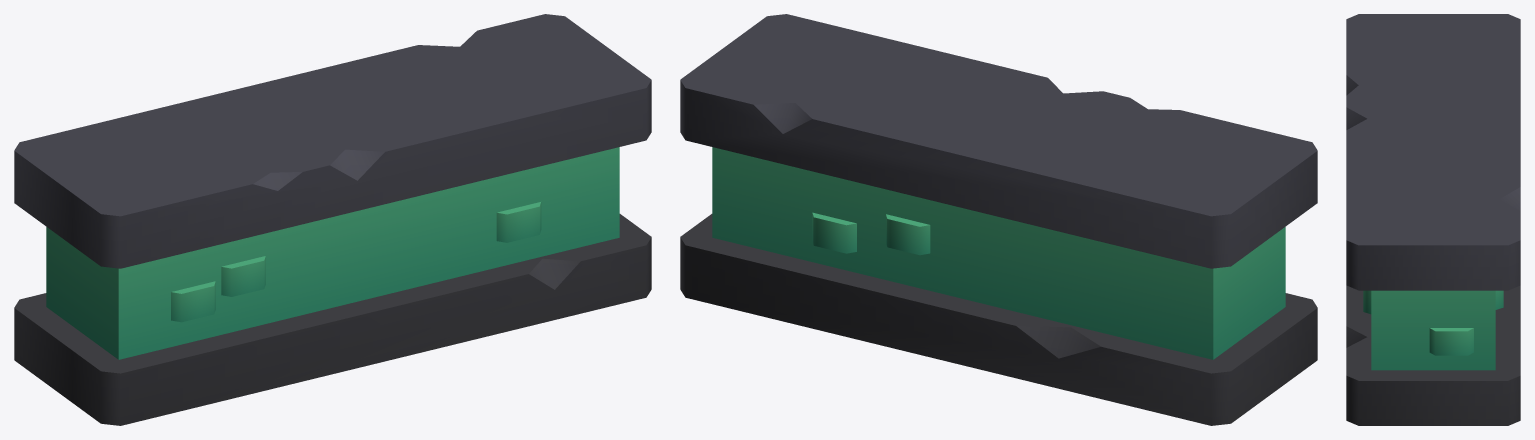
File: wall-low.glb
3 renders of one model, left to right at view 1: azimuth 30°, elevation 25°; view 2: azimuth 150°, elevation 25°; view 3: azimuth 270°, elevation 25°, orthographic. The views are drawn at different scales.
Visible parts, largest first — view 1: wall-low; view 2: wall-low; view 3: wall-low.
Boxes of the visible parts, x1,y1,x2,y2 form: wall-low: [14, 14, 651, 425]; wall-low: [680, 14, 1317, 425]; wall-low: [1346, 14, 1520, 425].
Size of the model in its own units: 2.2 by 0.8 by 0.7.
1 material, 1 textured.
